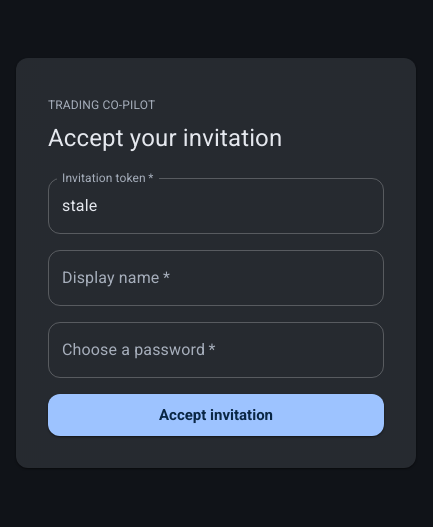
Test case: AcceptInvitePage › surfaces the invitation reason on a refusal — it is about the invite, not an account
Type "New Operator" into the field labelled "Display name" at x=216, y=278, box [48,250,384,306]
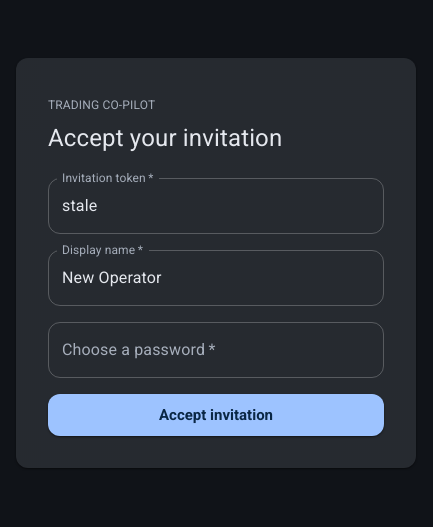
Type "pw" into the password field labelled "Choose a password" at x=216, y=350, box [48,322,384,378]
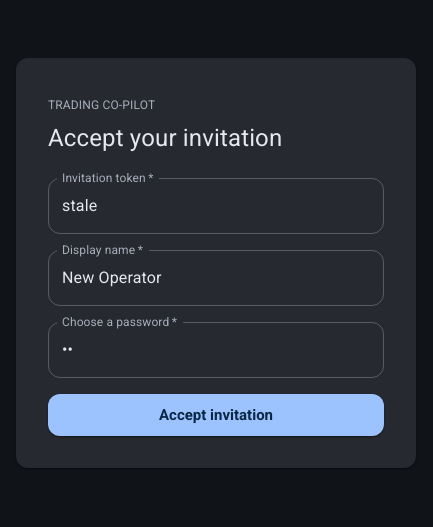
Click the button "Accept invitation" at x=216, y=415, box [48,394,384,436]
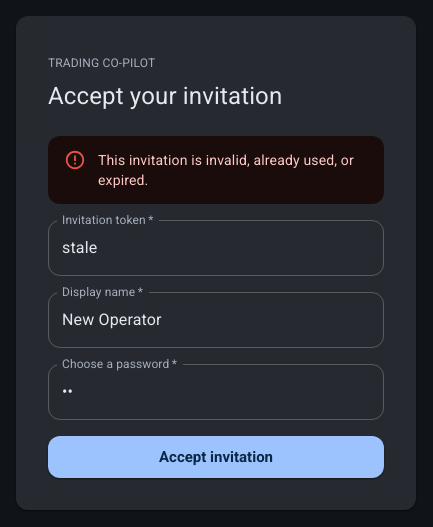
Now the message reads "This invitation is invalid, already used, or expired.", box [98,152,354,188]
